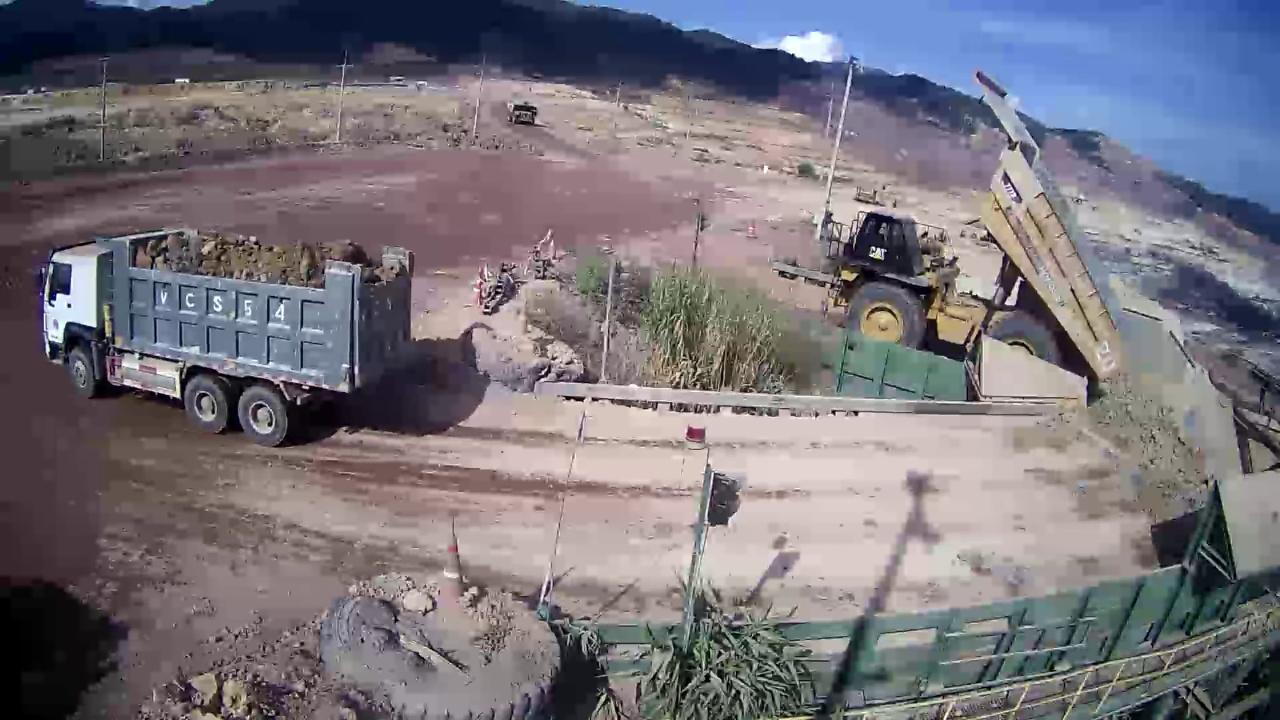company: (1007, 212, 1058, 293)
dumping_soil: (826, 56, 1158, 408)
tail_number: (1093, 336, 1121, 373)
truck_size: (1001, 172, 1022, 211)
